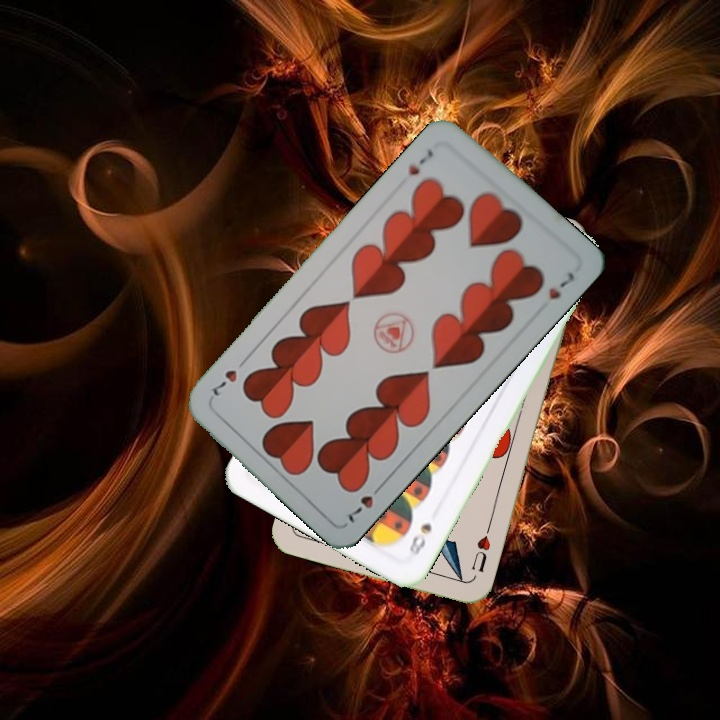H7: (344, 479, 387, 526), (404, 145, 437, 178)
HU: (467, 522, 493, 575)
S8: (405, 519, 435, 559)
